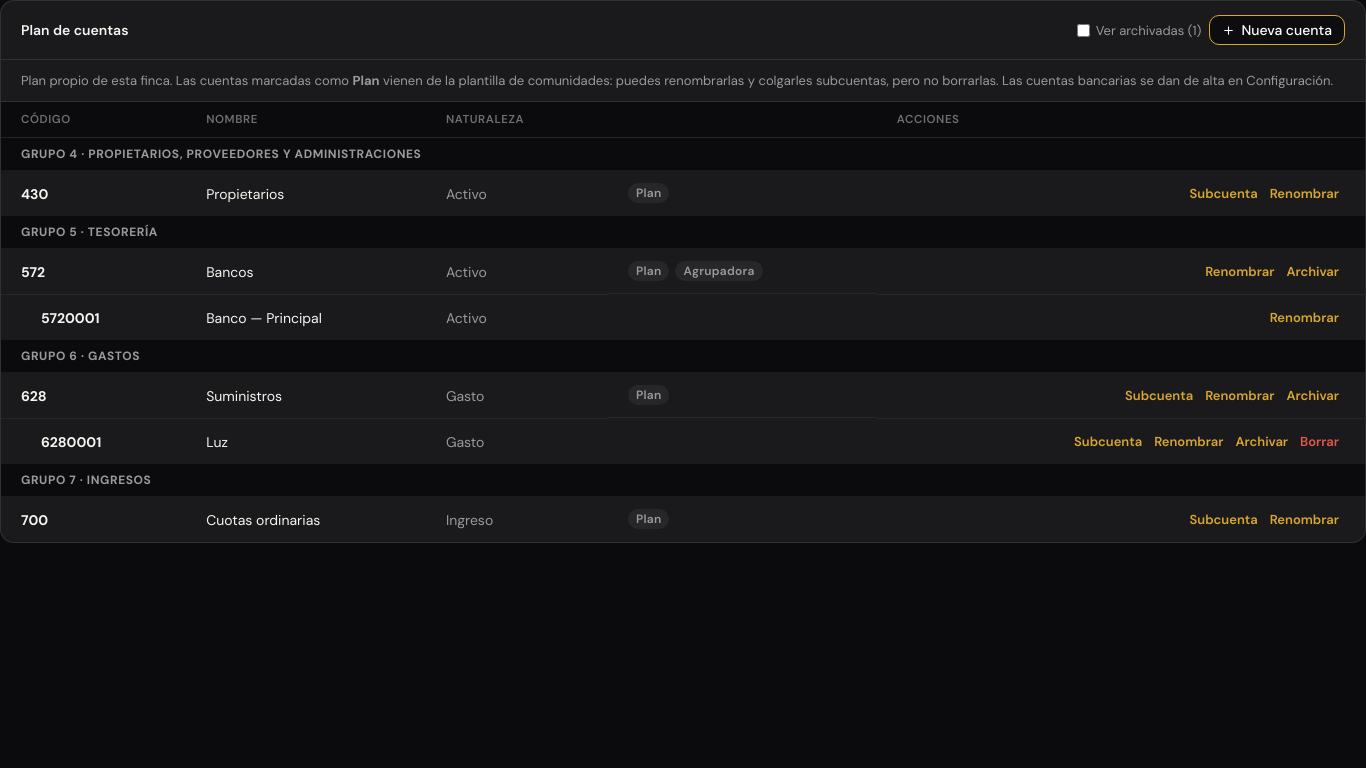
Test: CuentasContablesTabComponent › nueva cuenta y subcuenta › una subcuenta prerrellena el código del padre y exige que empiece por él
Click the button "Subcuenta" in the row of "Suministros": coordinates (1159, 396) [1119, 385, 1199, 406]
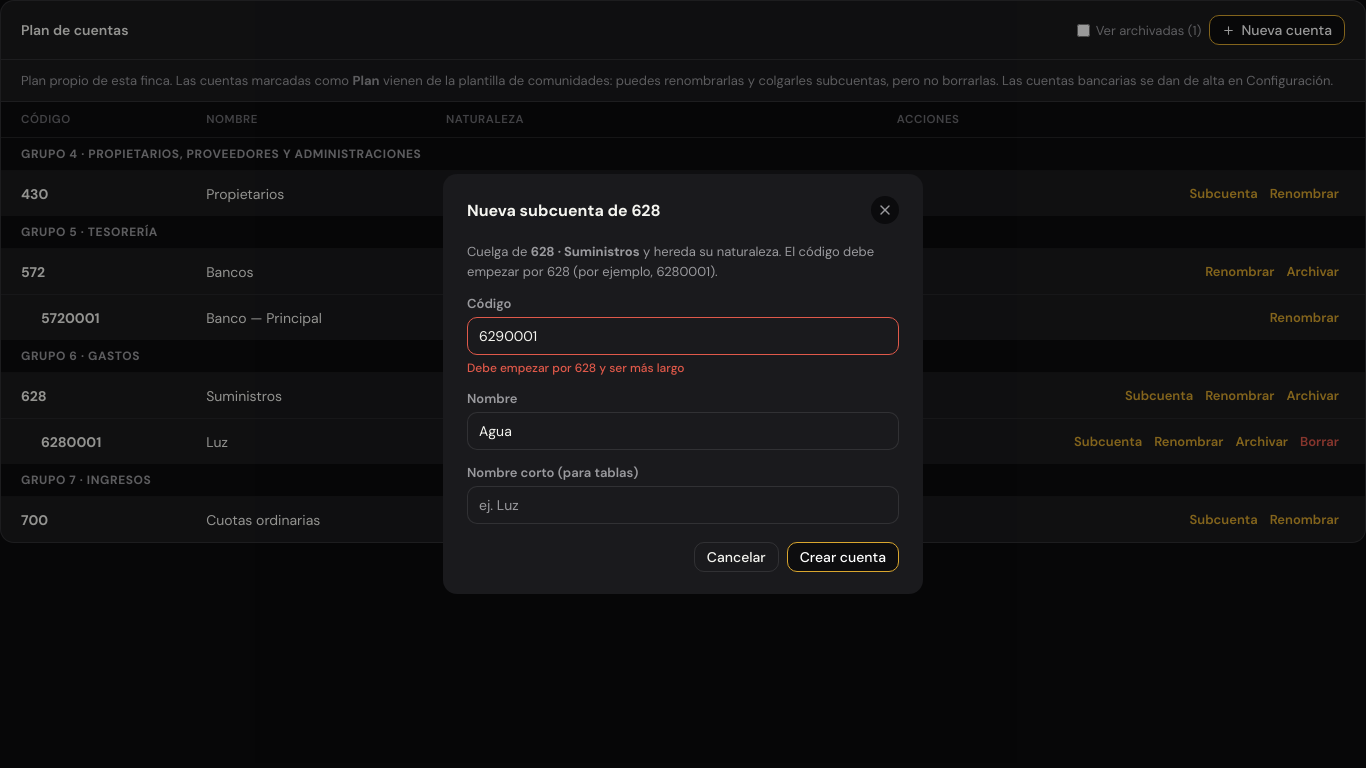
Now the text "Nueva subcuenta de 628" is shown, box [467, 200, 661, 220]
